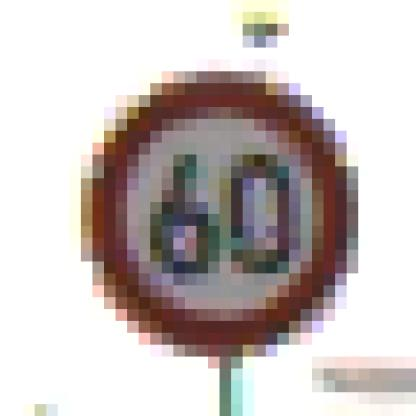Speed Limit 60: (90, 81, 338, 346)
